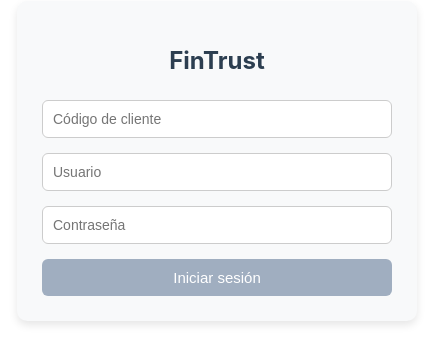
it: el botón se habilita solo cuando los tres campos están completos
Expected: the button "Iniciar sesión" is disabled, [42,259,392,296]
Type "123" into the field with placeholder "Código de cliente" at (217, 119), box [42,100,392,138]
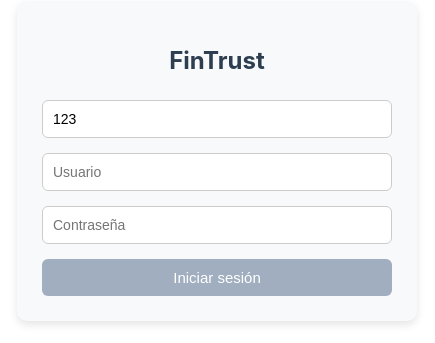
Type "diego" into the field with placeholder "Usuario" at (217, 172), box [42,153,392,191]
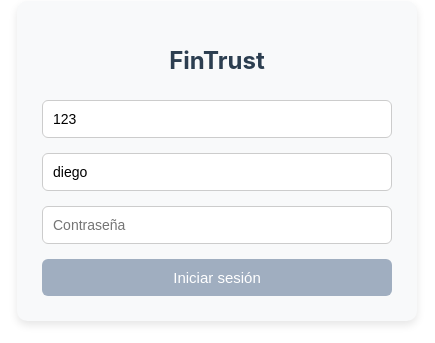
Expected: the button "Iniciar sesión" is disabled, [42,259,392,296]
// Llenar el último campo
Type "1234" into the password field with placeholder "Contraseña" at (217, 225), box [42,206,392,244]
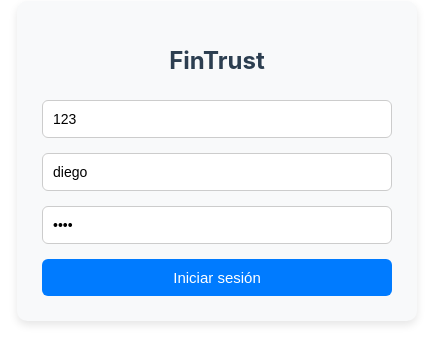
Now the button "Iniciar sesión" is enabled, box [42,259,392,296]
